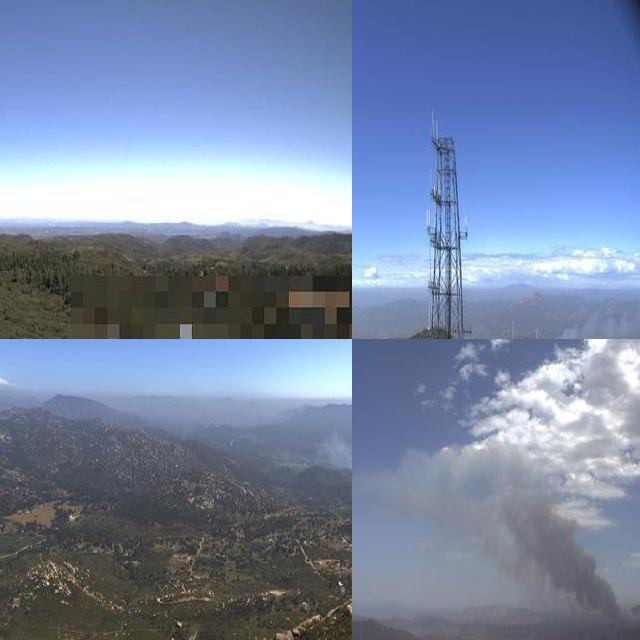smoke: (406, 442, 631, 634), (541, 302, 640, 339), (299, 426, 352, 475)
